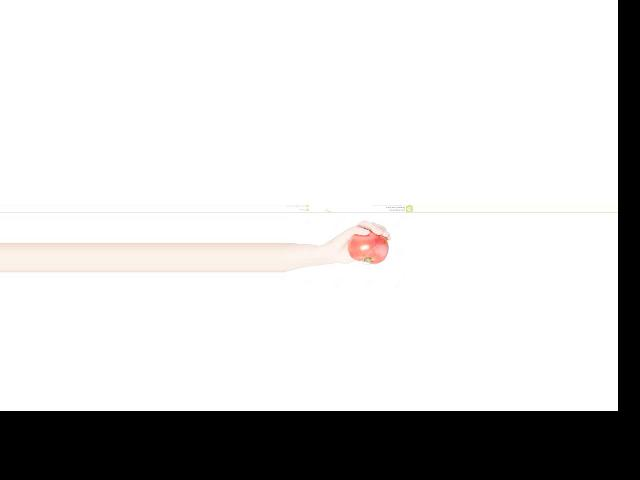tomato: (346, 230, 388, 264)
